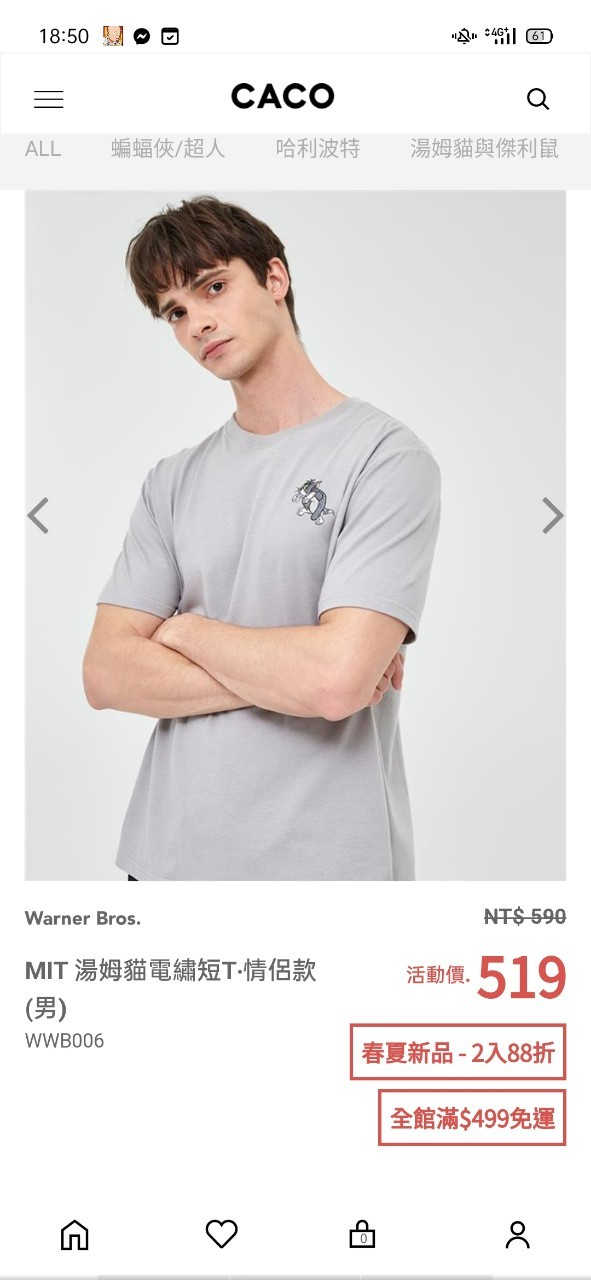people: (63, 176, 442, 894)
